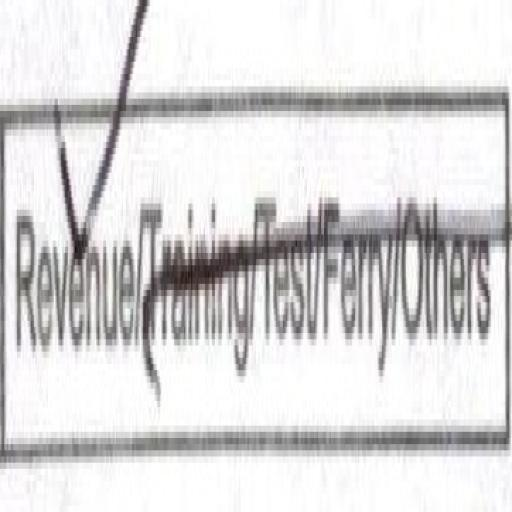check: (4, 0, 138, 452)
